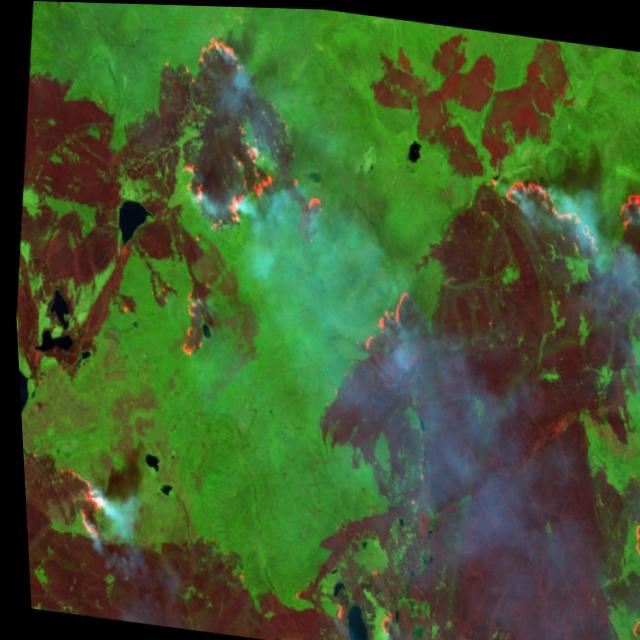fire: (153, 28, 345, 375), (491, 160, 640, 270), (44, 458, 107, 545), (355, 277, 416, 361), (607, 515, 640, 640)
